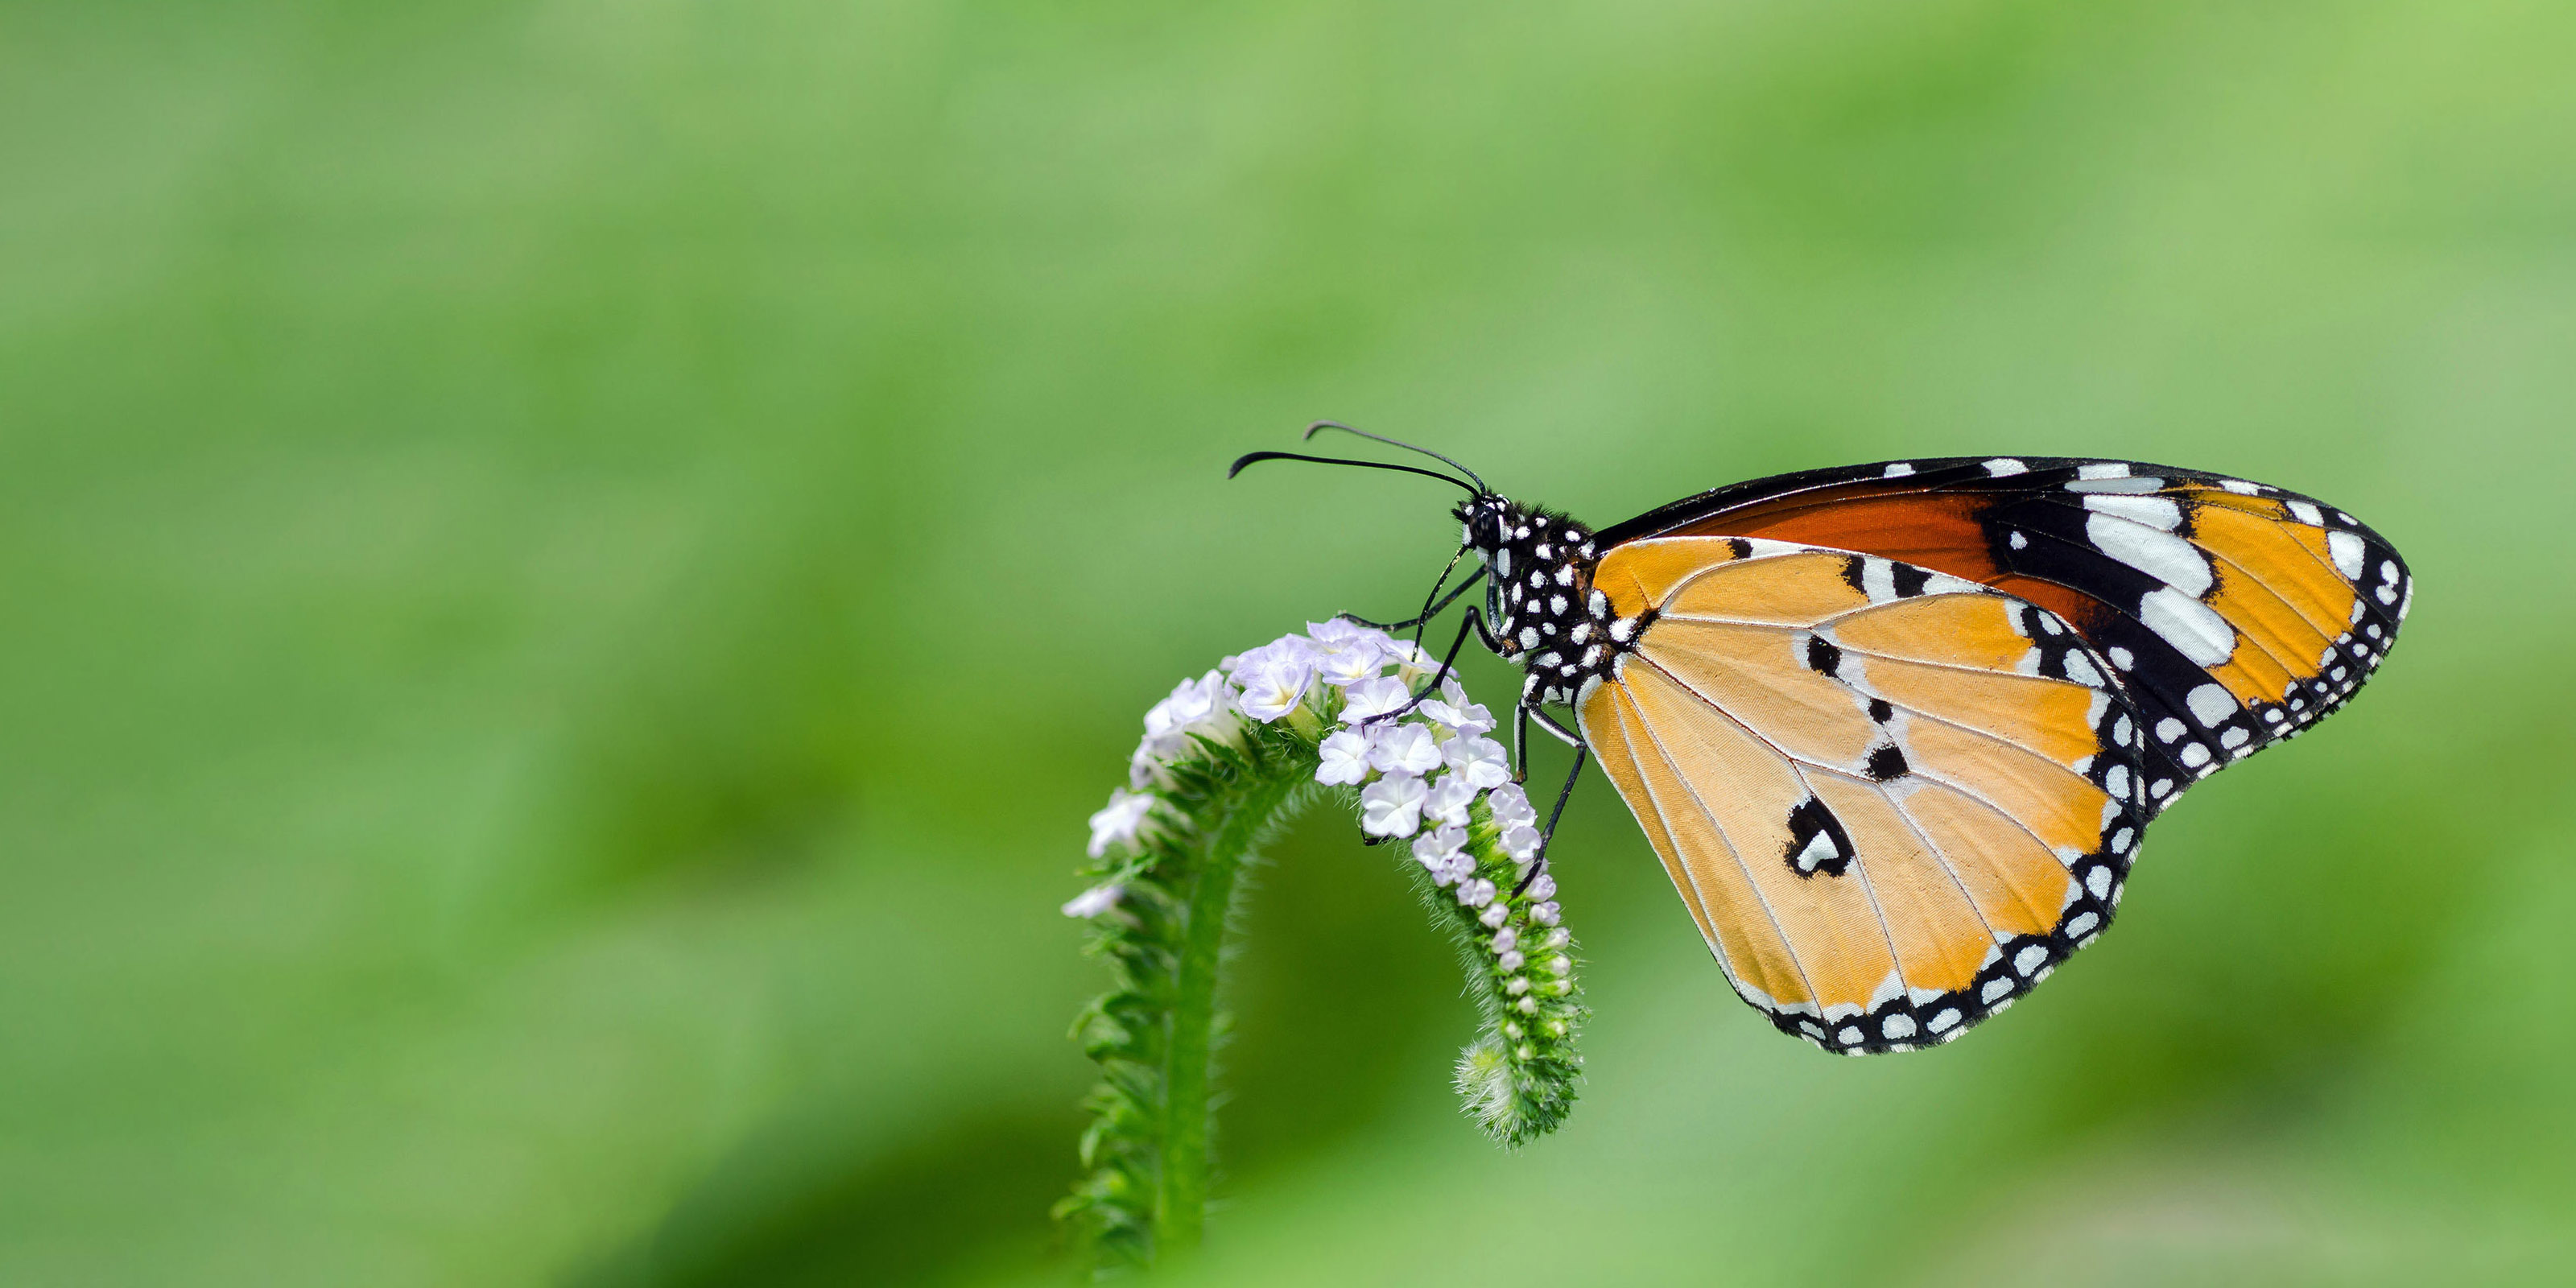Butterfly: (1221, 411, 2422, 1058)
